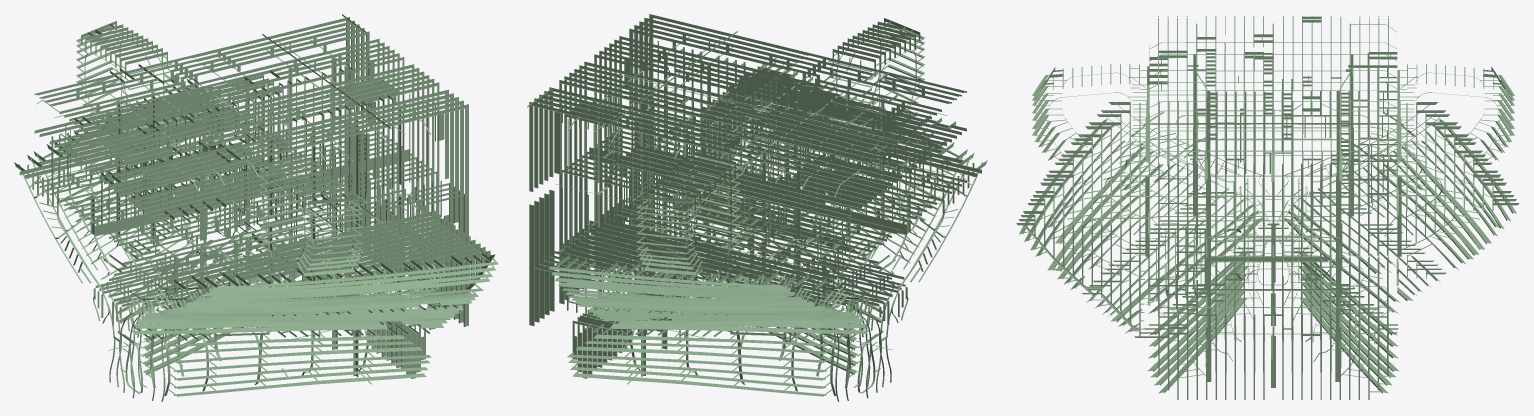
The model's file is ENGINE_ROOM.glb.
The picture shows the model from 3 angles, left to right: view 1: azimuth 30°, elevation 25°; view 2: azimuth 150°, elevation 25°; view 3: azimuth 270°, elevation 25°; orthographic projection. The views are drawn at different scales.
Parts seen in each view (by area): view 1: ST_2ndDeckxEPRPxWeb_041001-TW_1090x10+125x10_NVA_1993; view 2: ST_OuterShellxEPRPxL37A2xWeb_002001-IA_571x150x10.5x26_NVA32, ST_OuterShellxEPRPxL32A1xWeb_005003-IA_566x150x11.5x21_NVA32; view 3: no part large enough to name.
Part boxes in pixels (x1,y1,x2,y2): ST_2ndDeckxEPRPxWeb_041001-TW_1090x10+125x10_NVA_1993: [344, 149, 409, 174]; ST_OuterShellxEPRPxL37A2xWeb_002001-IA_571x150x10.5x26_NVA32: [593, 334, 690, 340]; ST_OuterShellxEPRPxL32A1xWeb_005003-IA_566x150x11.5x21_NVA32: [599, 375, 696, 384].
Size of the model in its own units: 33.02 by 27.11 by 47.47.
